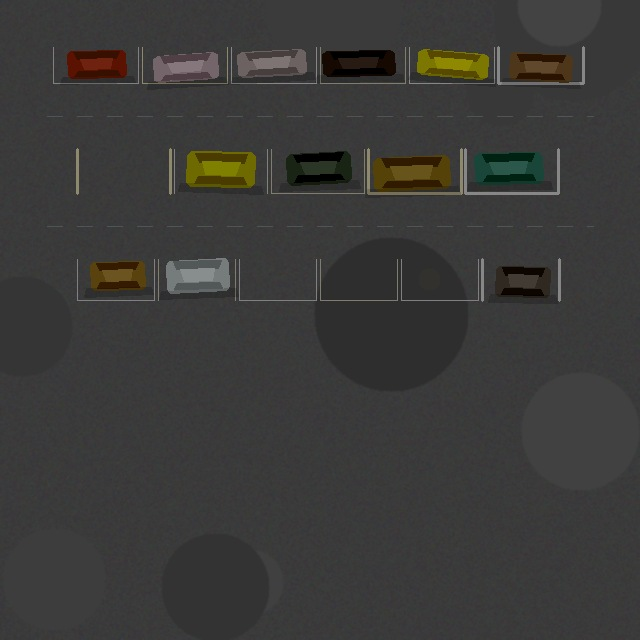space-empty: (77, 149, 170, 193), (239, 259, 316, 300), (320, 259, 397, 300), (401, 259, 478, 300)
space-occupied: (174, 149, 267, 193), (271, 149, 364, 193), (368, 149, 461, 193), (465, 149, 558, 193), (77, 259, 154, 300), (158, 259, 235, 300), (482, 259, 559, 300), (53, 47, 138, 83), (142, 47, 227, 83), (231, 47, 316, 83), (320, 47, 405, 83), (409, 47, 494, 83), (498, 47, 583, 83)
